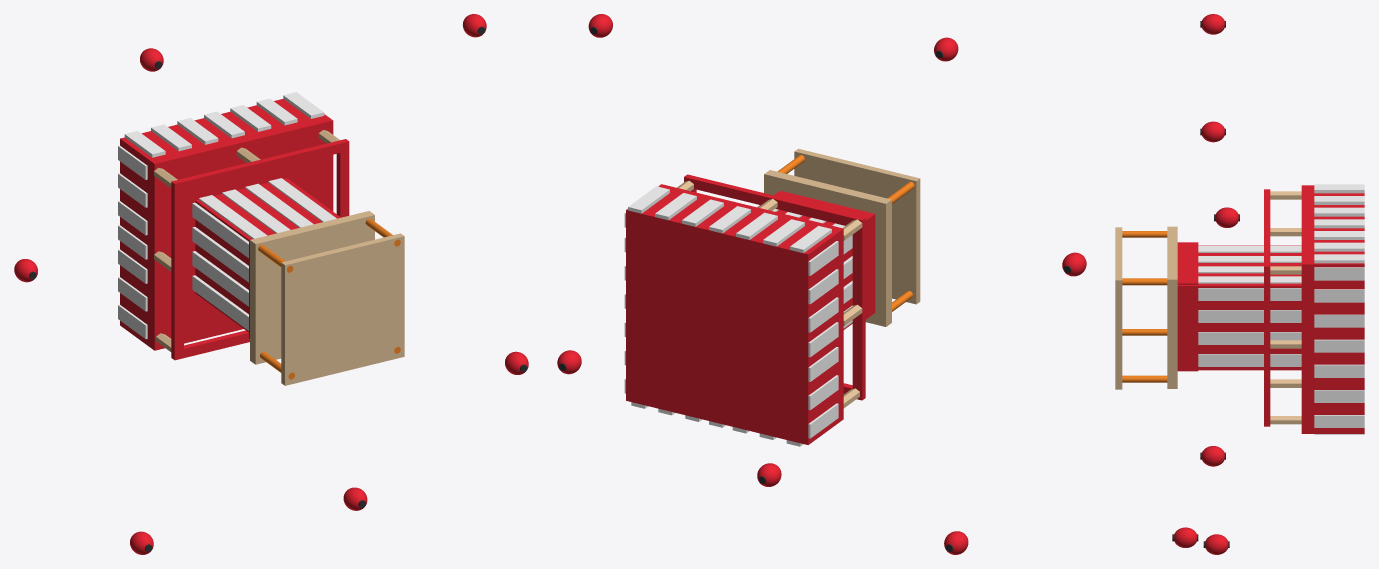
Rendered from Yagura.obj.
3 renders of one model, left to right at view 1: azimuth 30°, elevation 25°; view 2: azimuth 150°, elevation 25°; view 3: azimuth 270°, elevation 25°, orthographic. The views are drawn at different scales.
Parts seen in each view (by area): view 1: group_0_15277357, group_0_14860437, group_0_16448250, group_0_16089887; view 2: group_0_15277357, group_0_14860437, group_0_16448250, group_0_16089887; view 3: group_0_15277357, group_0_16448250, group_0_14860437, group_0_16089887.
Boxes of the visible parts, x1,y1,x2,y2 form: group_0_15277357: [14, 14, 528, 554]; group_0_14860437: [154, 130, 404, 385]; group_0_16448250: [118, 92, 336, 338]; group_0_16089887: [258, 218, 400, 379]; group_0_15277357: [557, 14, 1086, 554]; group_0_14860437: [677, 148, 920, 408]; group_0_16448250: [624, 186, 852, 446]; group_0_16089887: [777, 155, 914, 311]; group_0_15277357: [1174, 14, 1364, 554]; group_0_16448250: [1198, 184, 1364, 434]; group_0_14860437: [1115, 191, 1301, 424]; group_0_16089887: [1122, 231, 1167, 382].
Bounding box in the file's own units: 155 × 145 × 72.
